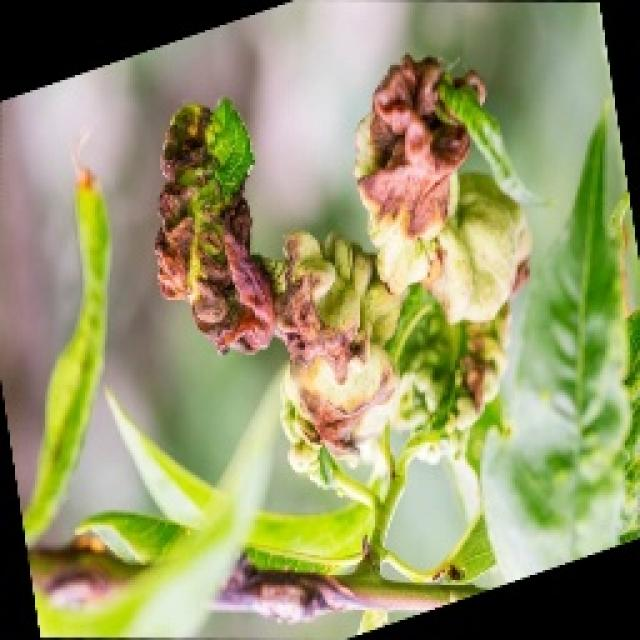peach_leaf_curl: (144, 85, 540, 428)
